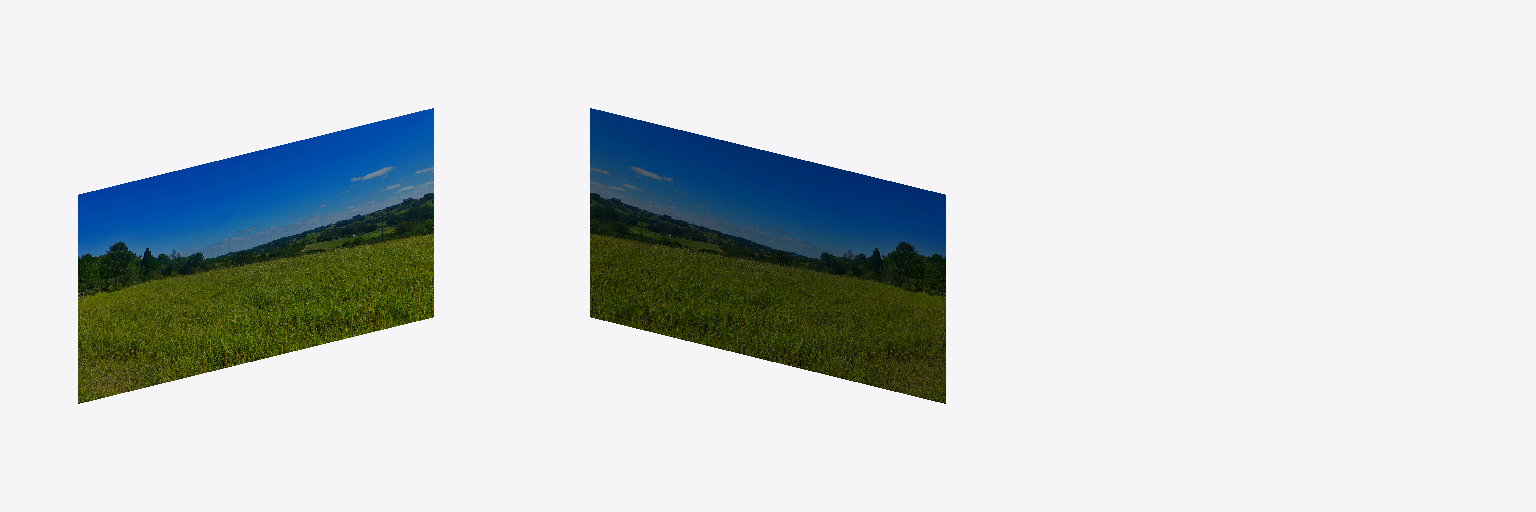
3 renders of one model, left to right at view 1: azimuth 30°, elevation 25°; view 2: azimuth 150°, elevation 25°; view 3: azimuth 270°, elevation 25°, orthographic.
Visible parts, largest first — view 1: Paisagem_01; view 2: Paisagem_01; view 3: none.
Boxes of the visible parts, x1=… form: Paisagem_01: x1=78, y1=108, x2=433, y2=403; Paisagem_01: x1=590, y1=108, x2=945, y2=403.
Bounding box in the file's own units: 1.78 × 1 × 0.
1 materials, 1 textured.